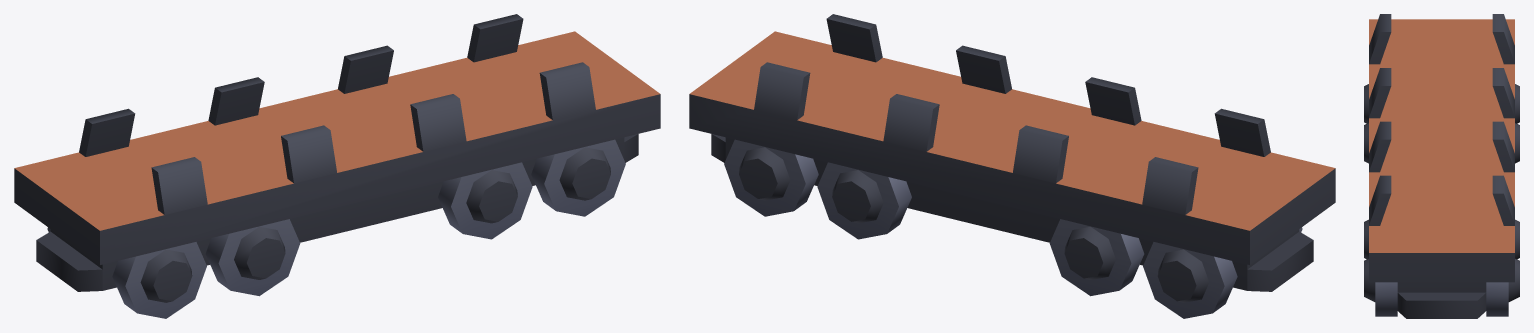
Rendered from train-wagon-flat.glb.
The picture shows the model from 3 angles, left to right: view 1: azimuth 30°, elevation 25°; view 2: azimuth 150°, elevation 25°; view 3: azimuth 270°, elevation 25°; orthographic projection. The views are drawn at different scales.
Parts seen in each view (by area): view 1: train-wagon-flat; view 2: train-wagon-flat; view 3: train-wagon-flat.
Part boxes in pixels (<box>): train-wagon-flat: <box>14,14,660,318</box>; train-wagon-flat: <box>689,14,1335,318</box>; train-wagon-flat: <box>1364,14,1519,318</box>.
Size of the model in its own units: 0.6914 by 0.172 by 0.1949.
